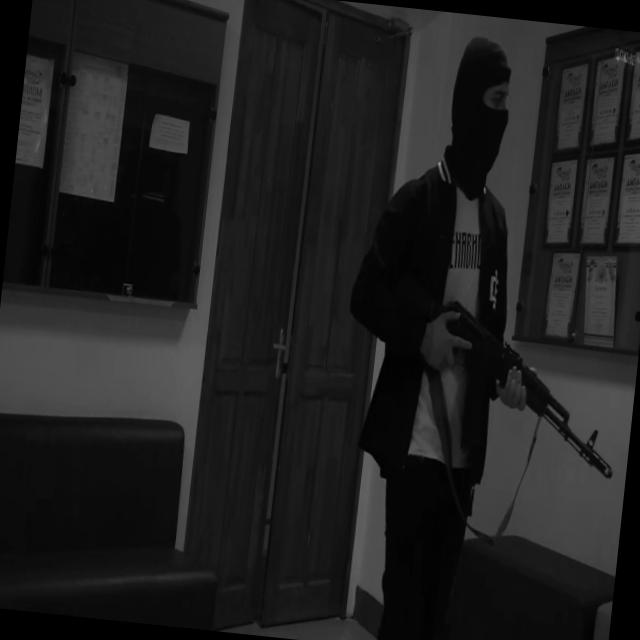gun: (372, 266, 633, 482)
person with a gun: (314, 26, 640, 640)
